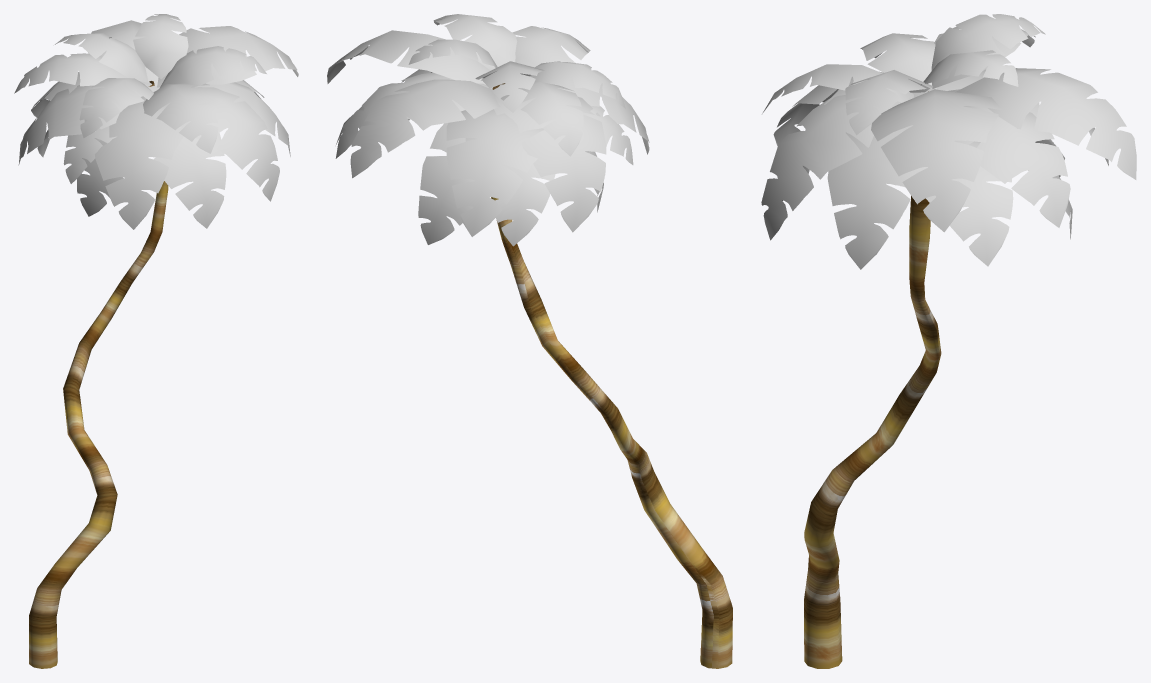
Rendered from Palm_Medium.fbx.
3 views of the same model, side by side, from view 1: azimuth 30°, elevation 25°; view 2: azimuth 150°, elevation 25°; view 3: azimuth 270°, elevation 25° (orthographic). The views are drawn at different scales.
Parts seen in each view (by area): view 1: Stvol1; view 2: Stvol1; view 3: Stvol1.
Part boxes in pixels (x1,y1,x2,y2): Stvol1: (14, 14, 298, 668); Stvol1: (327, 14, 732, 668); Stvol1: (761, 14, 1136, 668).
Bounding box in the file's own units: 471 × 798 × 377.
